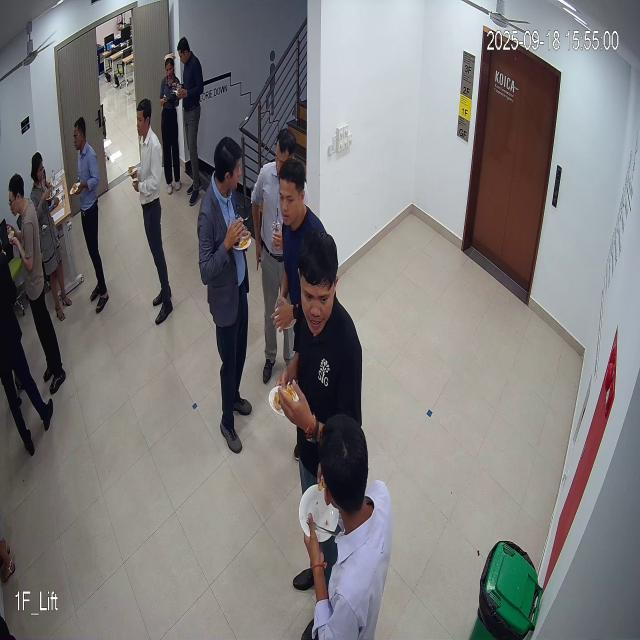face: (277, 156, 304, 233)
